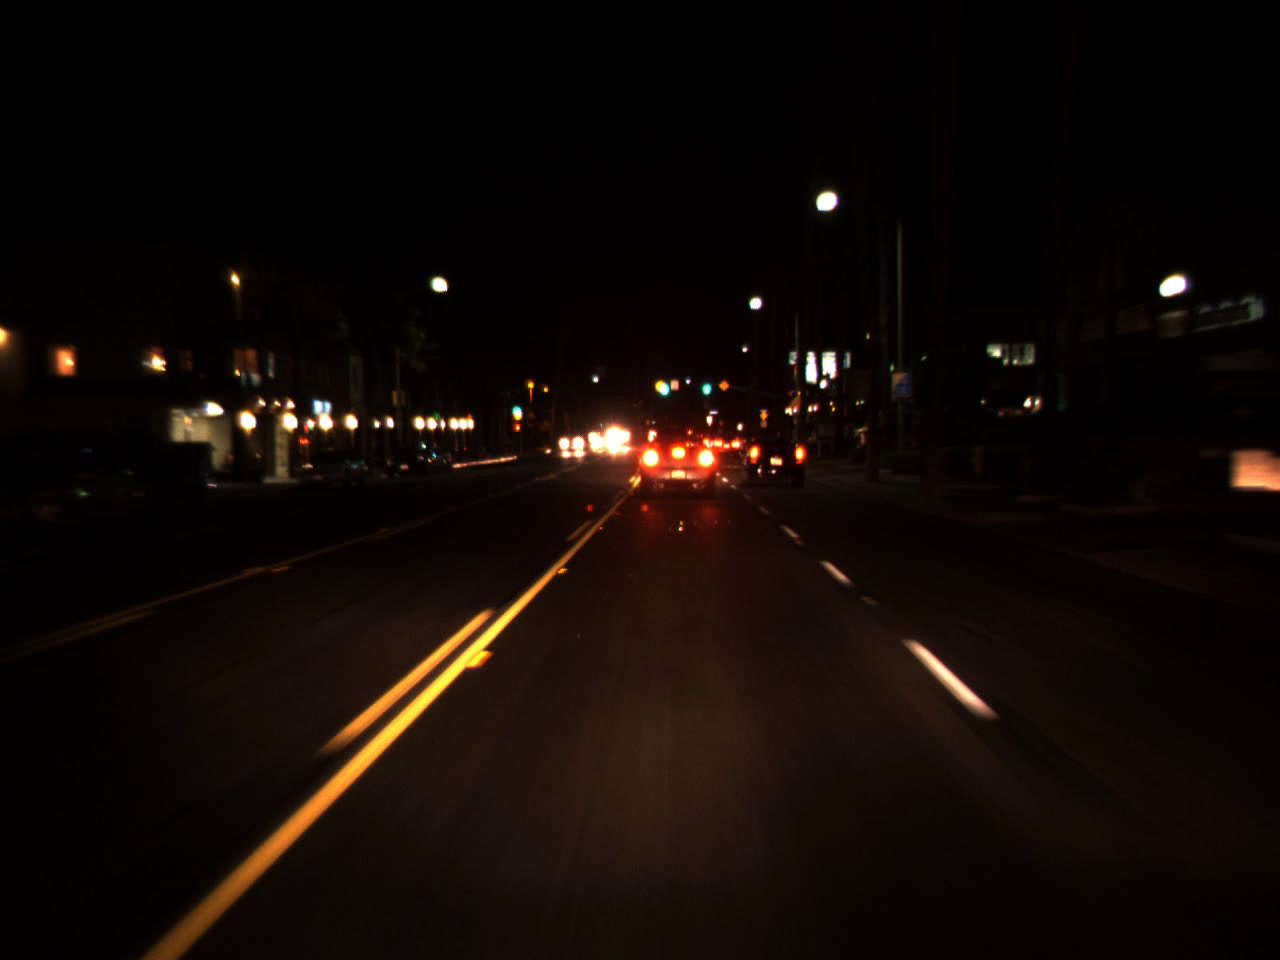go: (654, 371, 672, 398), (699, 369, 711, 399), (510, 400, 522, 412)
